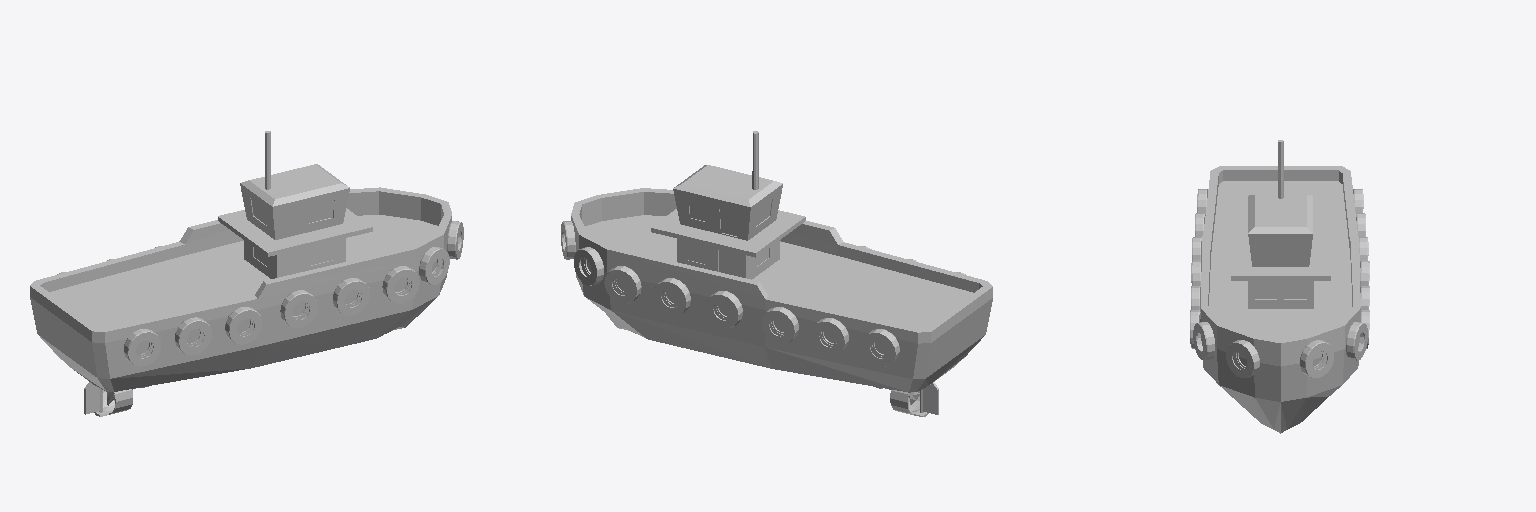
The model's file is boat.obj.
3 views of the same model, side by side, from view 1: azimuth 30°, elevation 25°; view 2: azimuth 150°, elevation 25°; view 3: azimuth 270°, elevation 25° (orthographic).
Visible parts, largest first — view 1: Boat_default, Tires_default; view 2: Boat_default, Tires_default; view 3: Boat_default, Tires_default.
Part boxes in pixels (x1,y1,x2,y2): Boat_default: (30,131,451,416); Tires_default: (57,221,463,366); Boat_default: (571,131,992,416); Tires_default: (561,221,965,366); Boat_default: (1201,140,1360,433); Tires_default: (1190,189,1369,378).
Size of the model in its own units: 6.63 by 3.94 by 2.65.